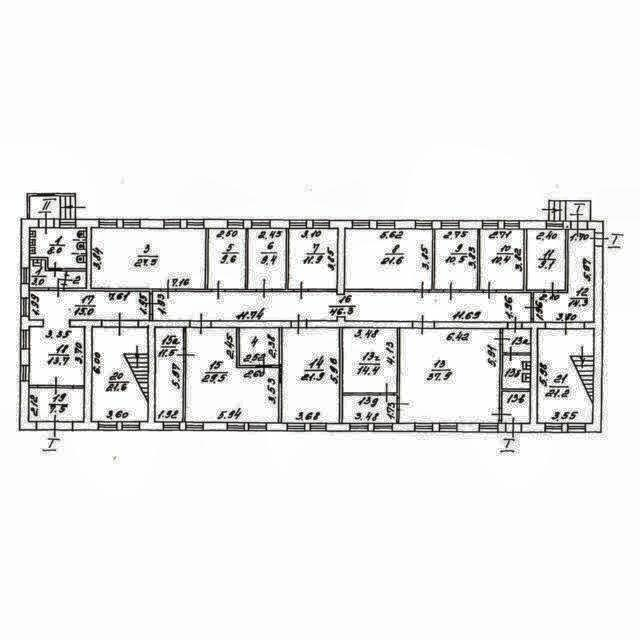room: (152, 290, 531, 322), (29, 290, 150, 386), (400, 328, 499, 422), (185, 327, 280, 422), (93, 227, 206, 287), (533, 229, 594, 322), (282, 327, 339, 422), (345, 228, 432, 289), (538, 329, 593, 423), (93, 327, 147, 421), (342, 327, 397, 392), (289, 229, 337, 288), (480, 230, 524, 289), (435, 229, 478, 289), (155, 327, 182, 421), (30, 227, 86, 268), (527, 229, 565, 289), (247, 228, 285, 288), (208, 228, 245, 288), (30, 387, 84, 421), (30, 260, 86, 287), (240, 327, 279, 364), (343, 395, 396, 422), (29, 195, 74, 218), (503, 355, 530, 389), (502, 391, 530, 423), (549, 201, 590, 220), (503, 328, 530, 352)
